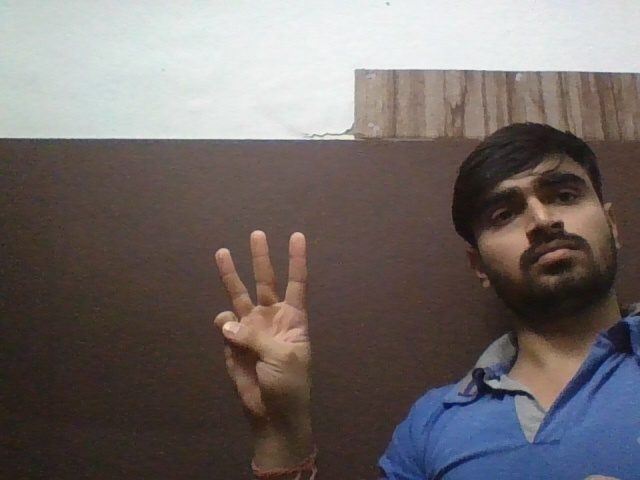W: (206, 220, 326, 422)
